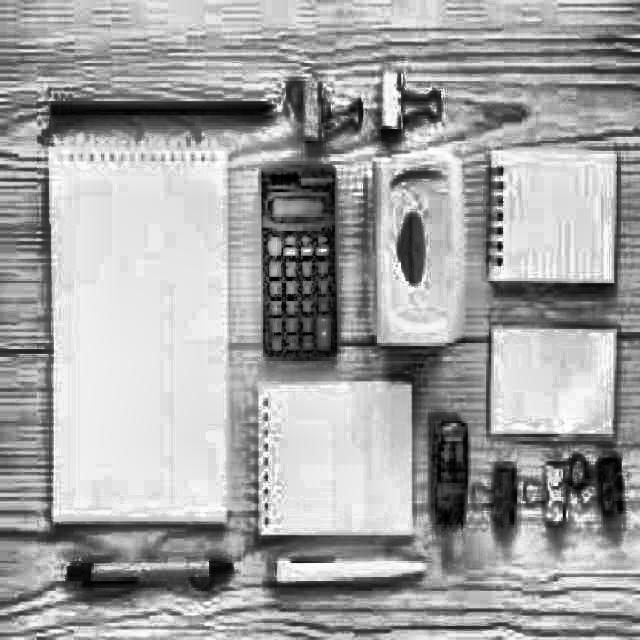Notebook: (46, 138, 232, 528), (250, 380, 415, 540), (487, 148, 619, 287), (489, 324, 621, 438)
Pen: (64, 556, 239, 592)
